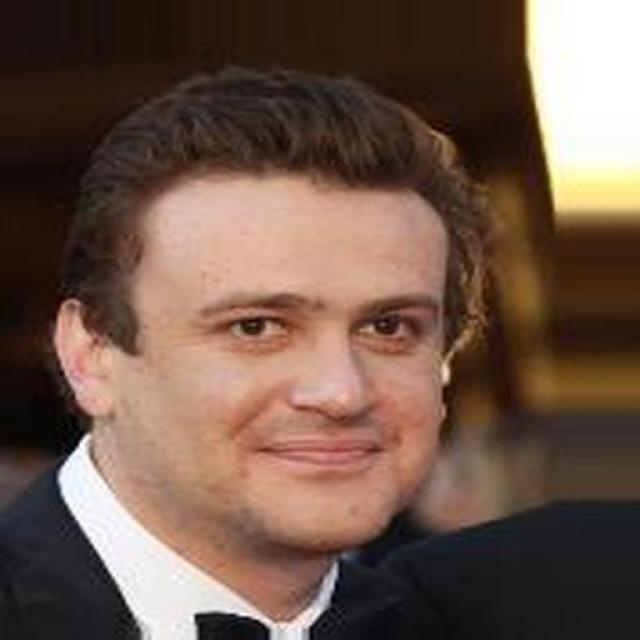bareface: (106, 168, 466, 532)
